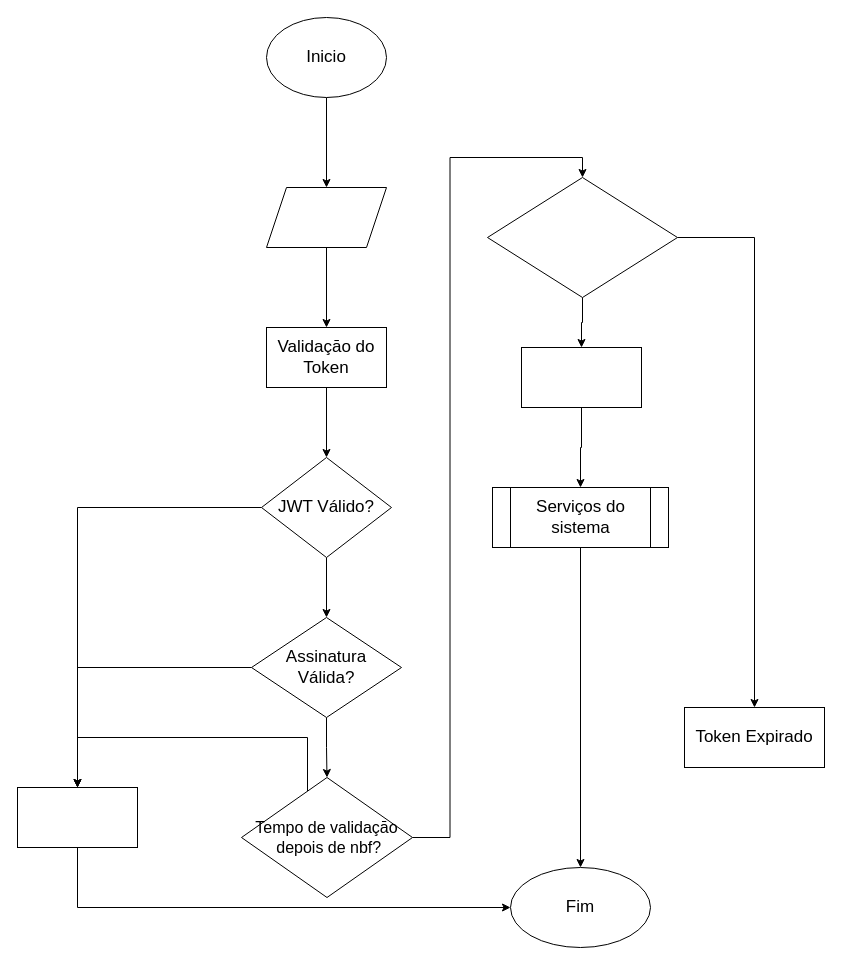
The diagram is 842 pixels wide and 965 high, and some of its shapes have lost their labels. Here are the shapes that lost their labels. From the top down, the centre of each, then its label:
(326,217): Token
(582,237): Tempo de Validaçāo antes de expirar?
(581,377): Gerar Sessāo
(77,817): Token Inválido
